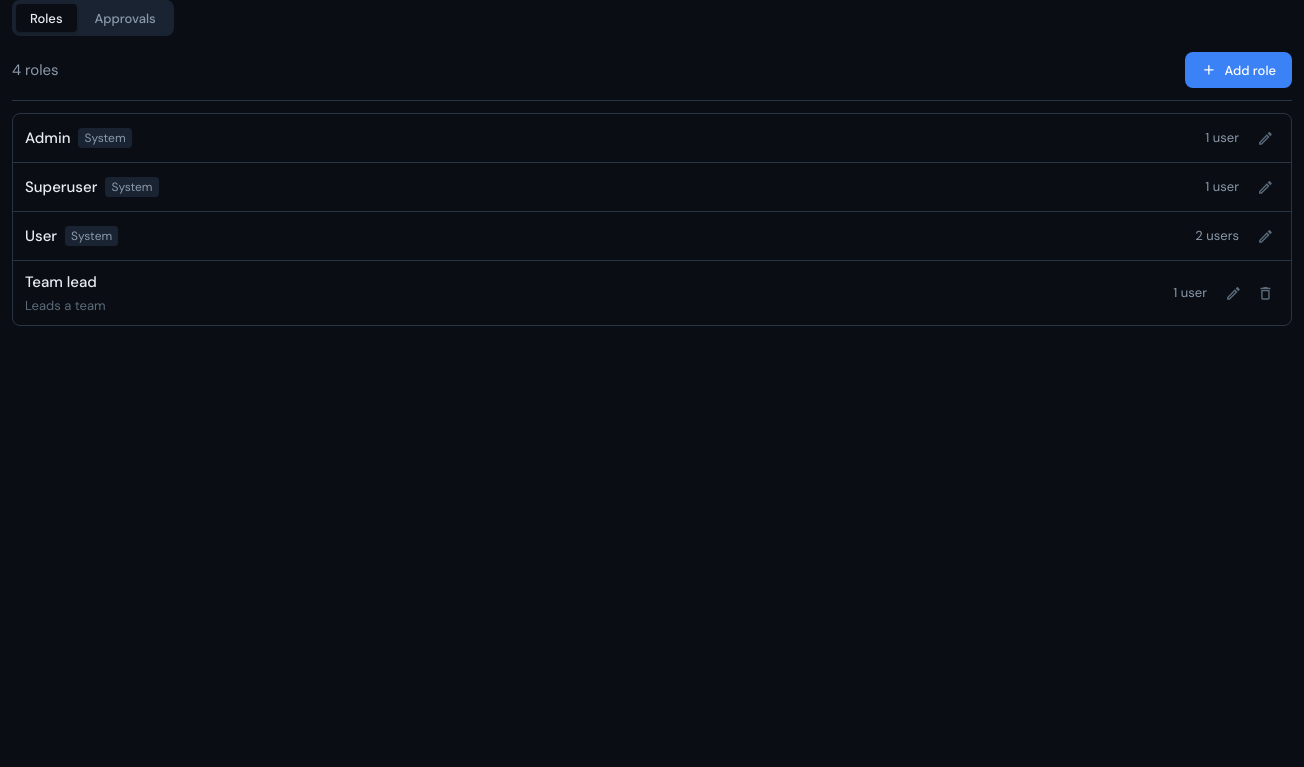
RolesPanel › opens the role form with the catalogue, and goes back
Click the button named "Edit Team lead" at (1233,293), box 1219,279 -> 1247,307
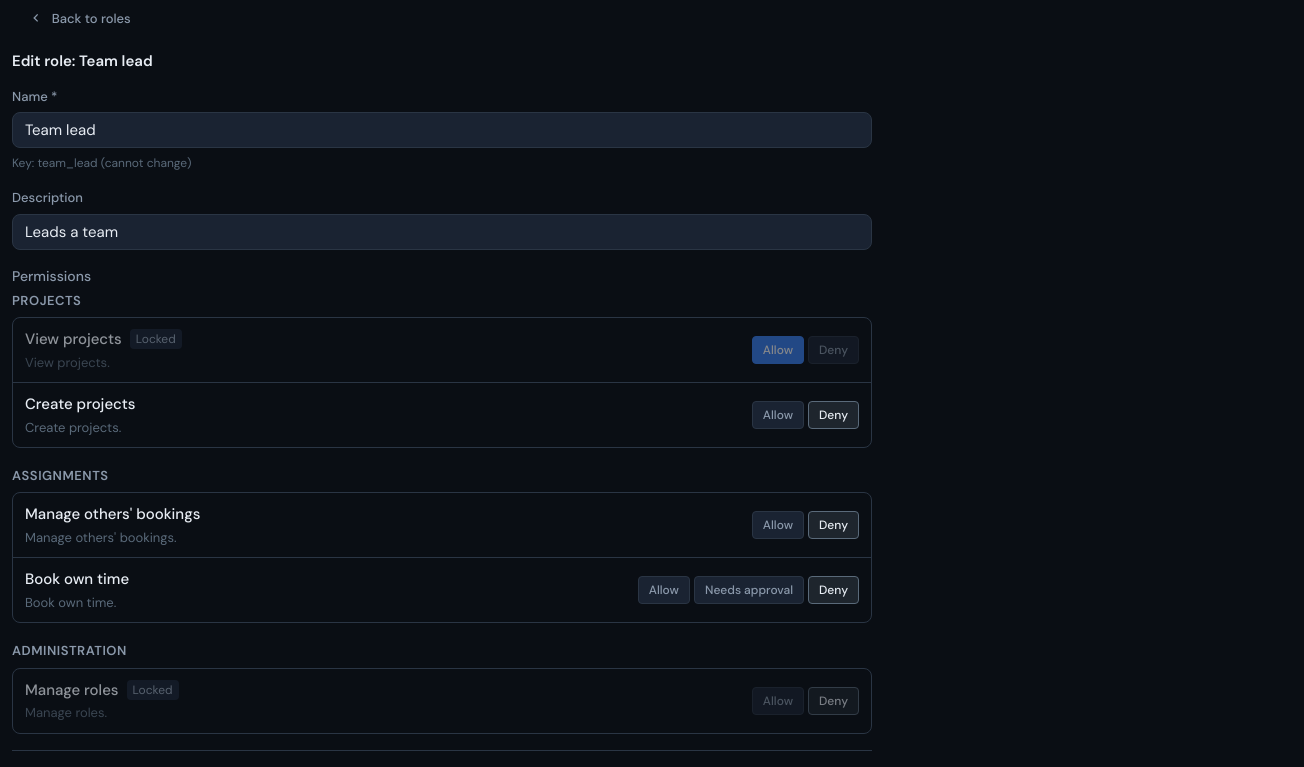
expect the heading "Edit role: Team lead" is shown: met, box 12,51 -> 153,71
expect the element named "Create projects" is shown: met, box 752,401 -> 859,429
Click the button "Back to roles" at (79,18), box 12,0 -> 147,36
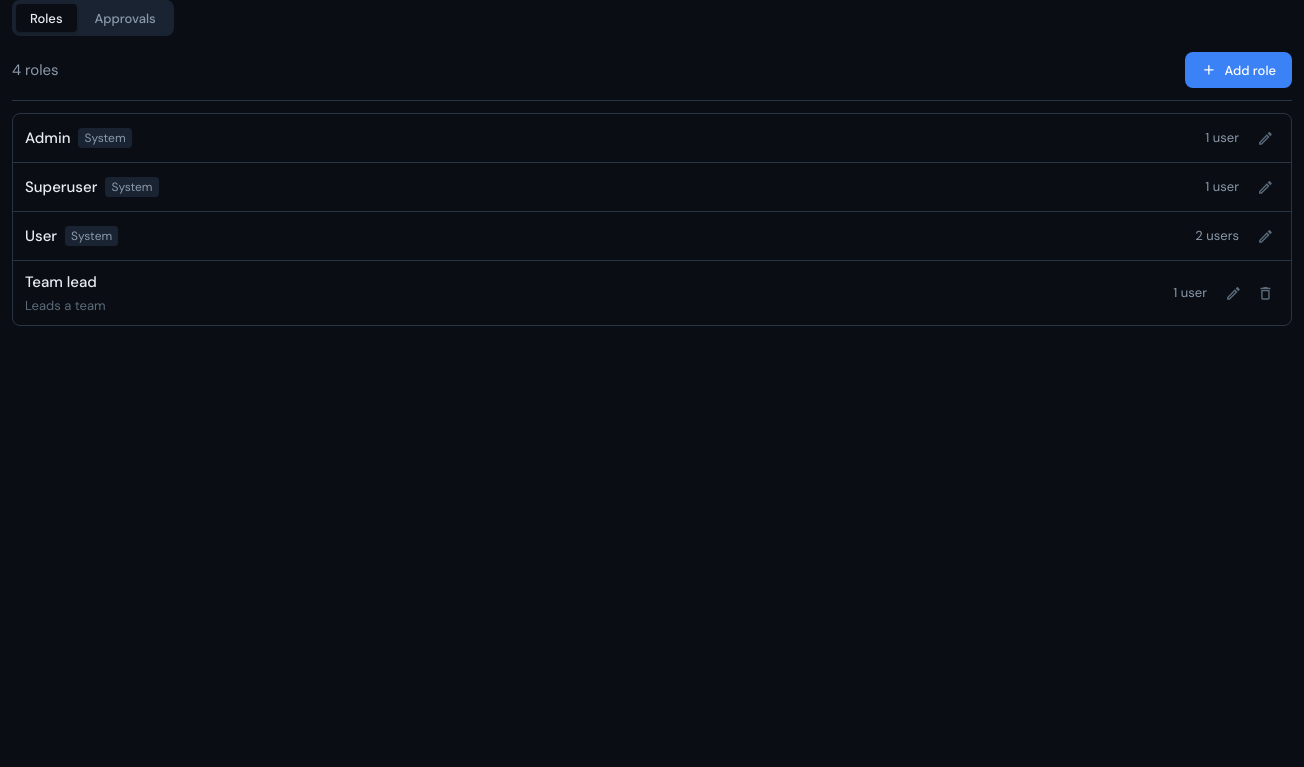
expect the text "4 roles" is shown: met, box 12,59 -> 59,81
